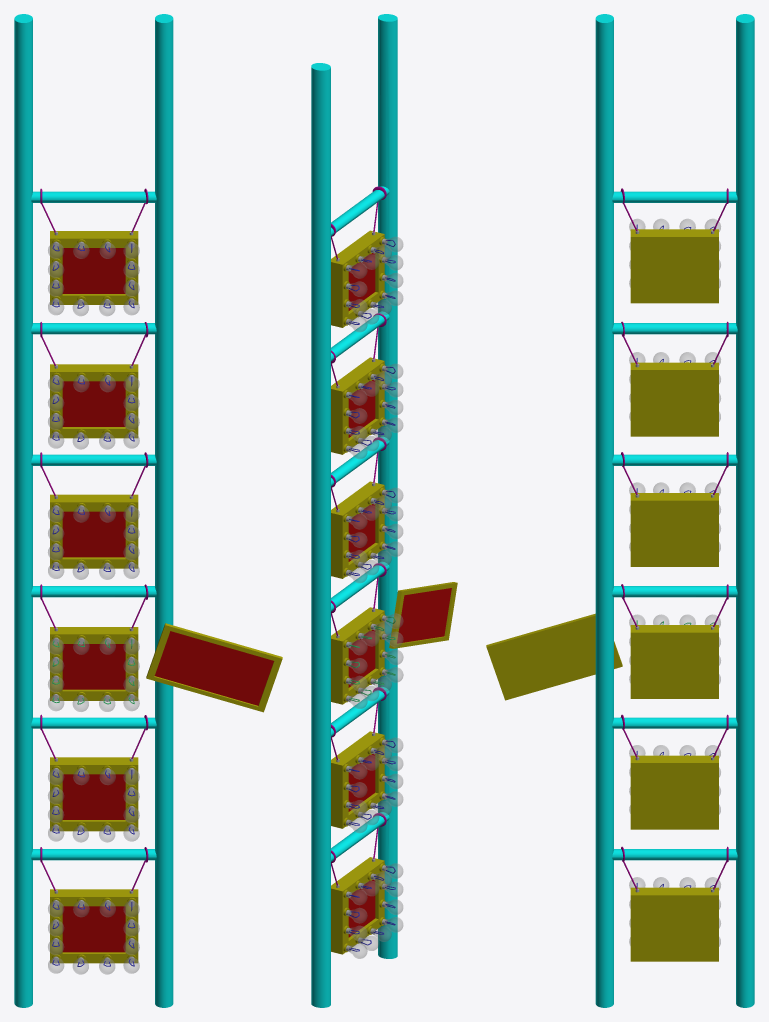
The model's file is NelsonLadder.fbx.
3 views of the same model, side by side, from view 1: azimuth 90°, elevation 25°; view 2: azimuth 150°, elevation 25°; view 3: azimuth 270°, elevation 25° (orthographic). The views are drawn at different scales.
Visible parts, largest first — view 1: pCylinder63, pCube5, pCylinder128, pCylinder111, pCylinder78, pCylinder162, pCylinder179, pCylinder145; view 2: pCylinder63, pCylinder111, pCylinder145, pCylinder162, pCylinder78, pCylinder128, pCylinder179, pCube5; view 3: pCylinder63, pCylinder179, pCylinder78, pCylinder111, pCylinder162, pCylinder128, pCylinder145, pCube5.
Boxes of the visible parts, x1=… form: pCylinder63: x1=14, y1=14, x2=173, y2=1007; pCube5: x1=146, y1=623, x2=282, y2=712; pCylinder128: x1=50, y1=494, x2=138, y2=568; pCylinder111: x1=50, y1=757, x2=138, y2=831; pCylinder78: x1=50, y1=889, x2=138, y2=963; pCylinder162: x1=50, y1=364, x2=138, y2=438; pCylinder179: x1=50, y1=231, x2=138, y2=304; pCylinder145: x1=50, y1=627, x2=138, y2=700; pCylinder63: x1=311, y1=14, x2=397, y2=1007; pCylinder111: x1=331, y1=731, x2=385, y2=828; pCylinder145: x1=331, y1=607, x2=385, y2=704; pCylinder162: x1=331, y1=357, x2=385, y2=454; pCylinder78: x1=331, y1=857, x2=385, y2=954; pCylinder128: x1=331, y1=481, x2=385, y2=578; pCylinder179: x1=331, y1=230, x2=385, y2=327; pCube5: x1=389, y1=582, x2=457, y2=648; pCylinder63: x1=595, y1=14, x2=754, y2=1007; pCylinder179: x1=630, y1=229, x2=718, y2=303; pCylinder78: x1=630, y1=887, x2=718, y2=961; pCylinder111: x1=630, y1=755, x2=718, y2=829; pCylinder162: x1=630, y1=362, x2=718, y2=436; pCylinder128: x1=630, y1=492, x2=718, y2=566; pCylinder145: x1=630, y1=624, x2=718, y2=698; pCube5: x1=486, y1=613, x2=622, y2=700.
Size of the model in its own units: 1.14 by 26.22 by 6.47.
